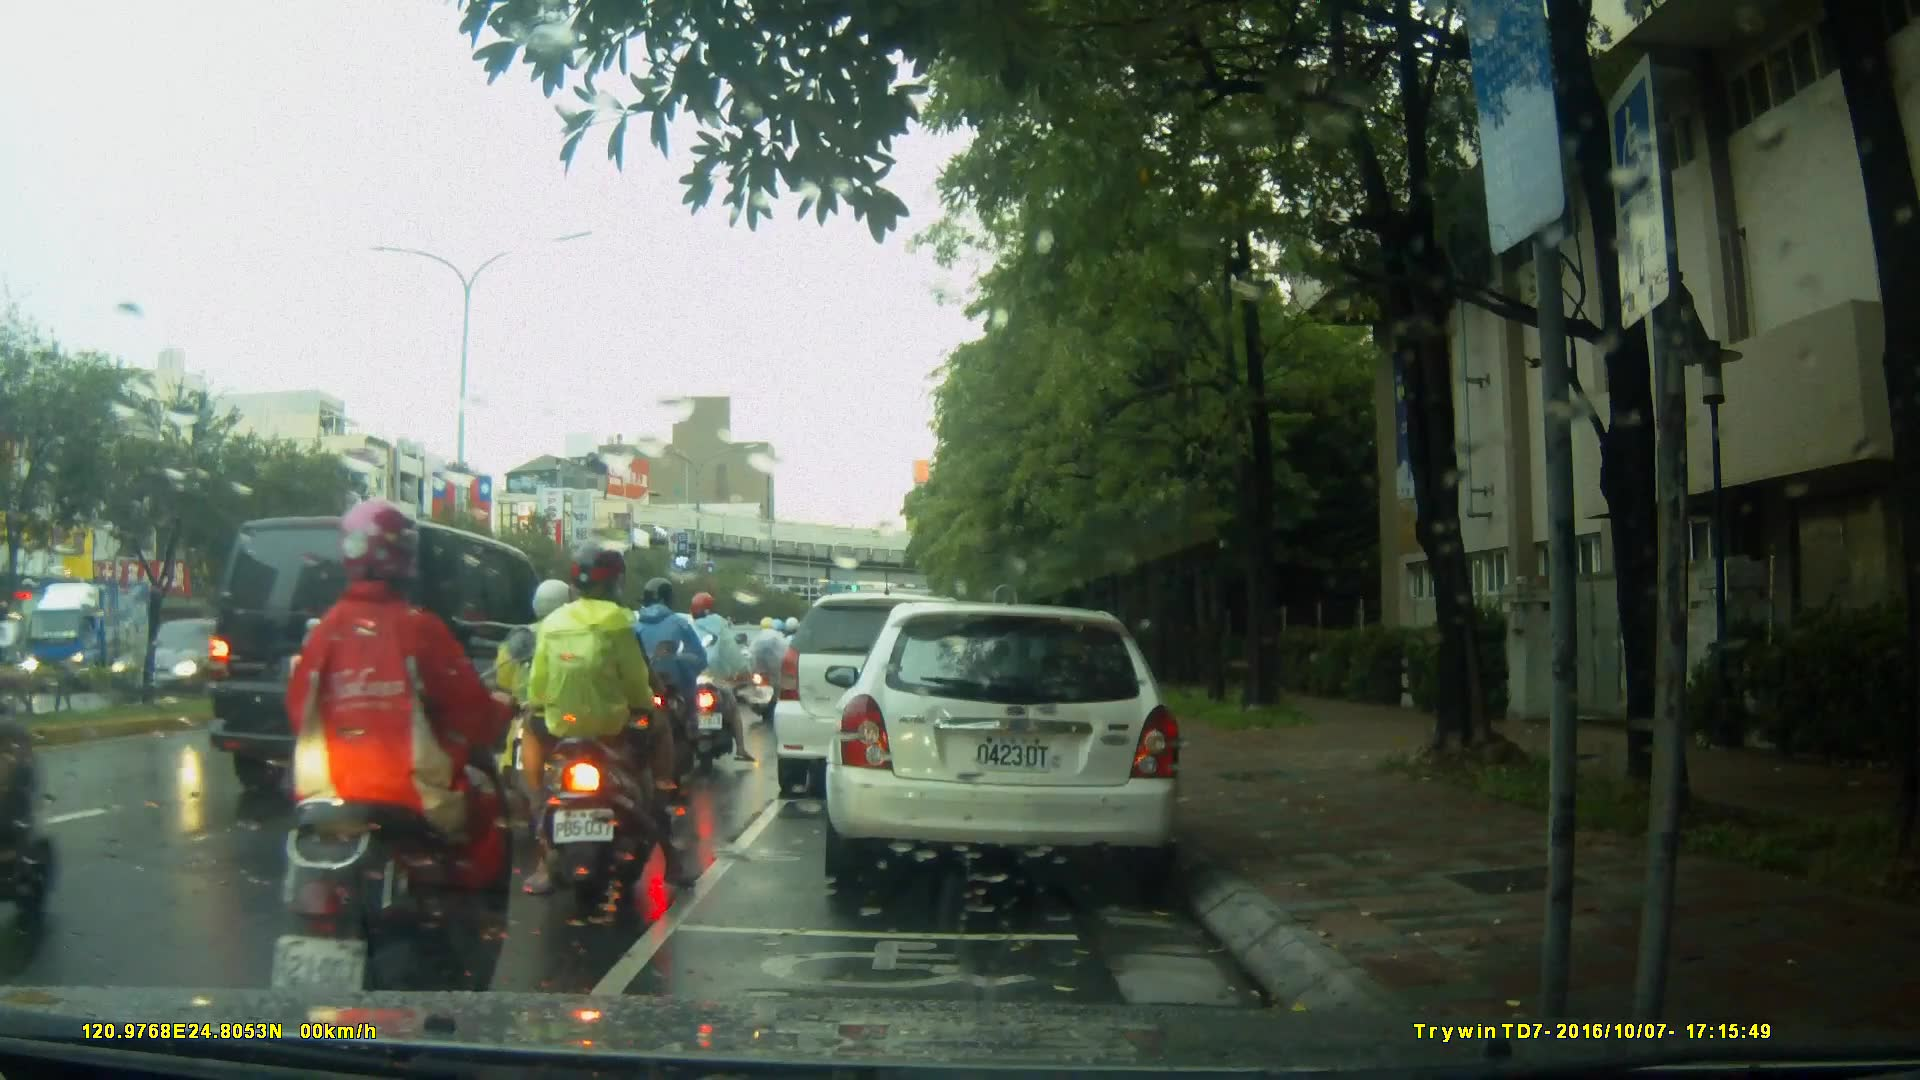rider: (270, 502, 535, 1029), (511, 540, 688, 911), (513, 583, 625, 864), (620, 579, 721, 795), (679, 592, 750, 768), (745, 612, 792, 722)
vehicle: (194, 514, 595, 807), (822, 604, 1188, 883), (774, 595, 995, 802), (516, 606, 727, 755), (20, 576, 199, 697), (97, 613, 298, 710)
